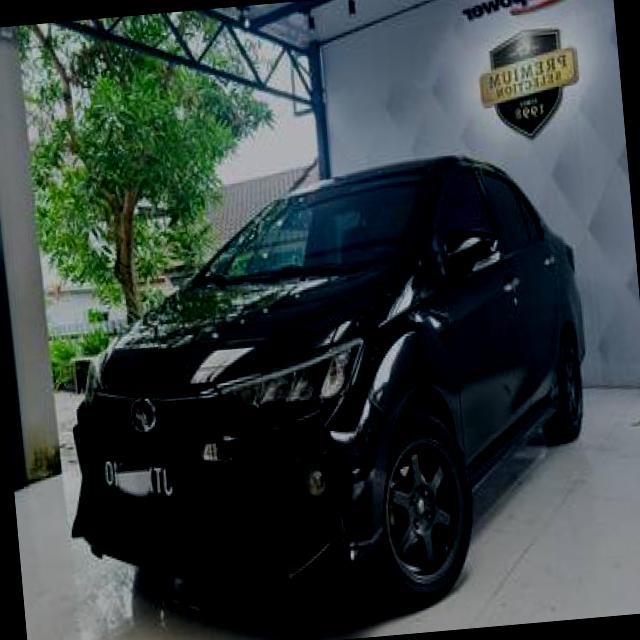PeroduaBezza: (41, 142, 608, 640)
